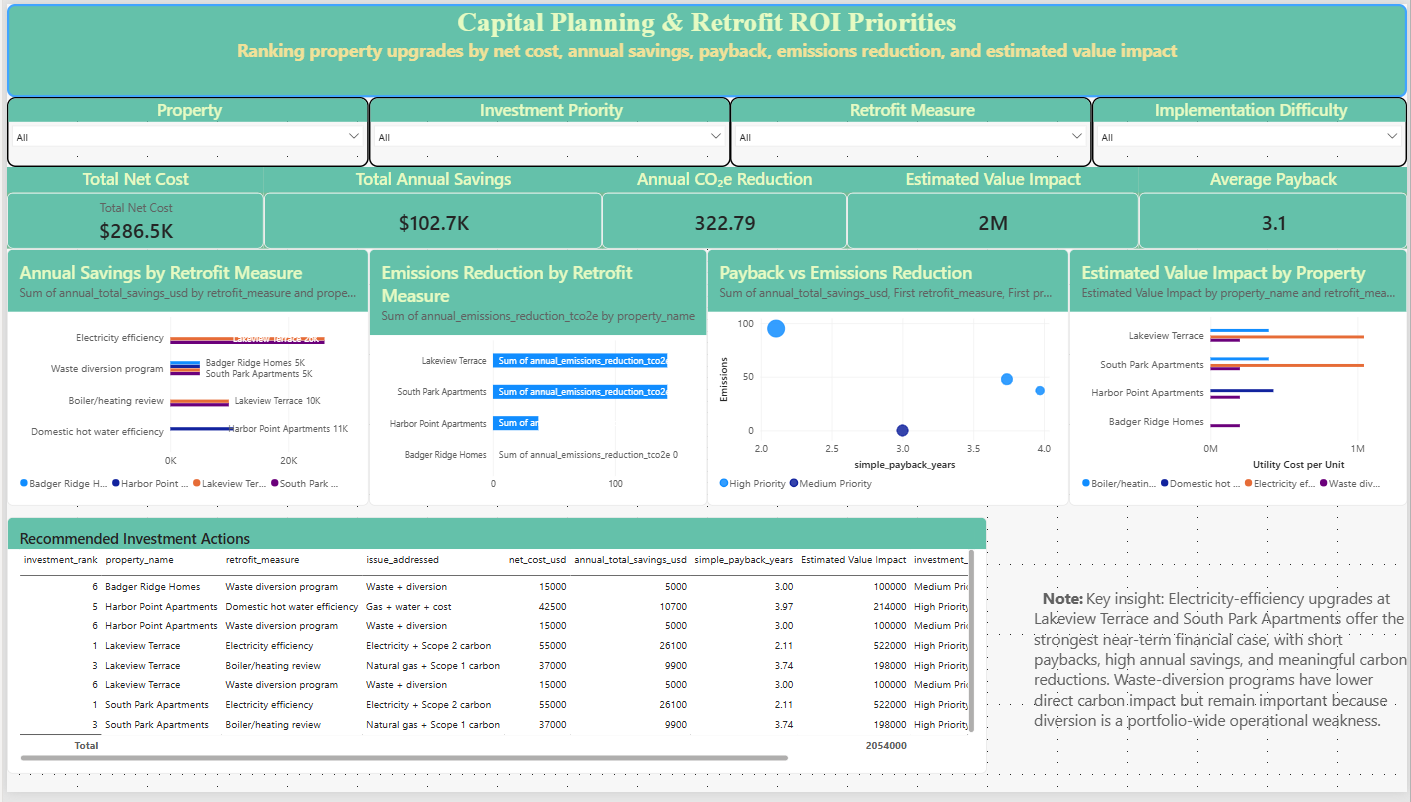

The page's visual inventory and layout, read from the dashboard file:
{"tool":"powerbi","page":{"name":"Duplicate of Utility Performance & Operating Cost Risk","canvas":[1920,1080],"ordinal":2},"visuals":[{"type":"textbox","box":[0,0,1920,128],"z":0},{"type":"slicer","title":"Property","fields":{"Values":["01_input_asset_master.property_name"]},"box":[0,128,496,96],"z":1000},{"type":"slicer","title":"Investment Priority","fields":{"Values":["17_output_investment_summary.investment_priority"]},"box":[496,128,496,96],"z":2000},{"type":"slicer","title":"Retrofit Measure","fields":{"Values":["17_output_investment_summary.retrofit_measure"]},"box":[992,128,496,96],"z":3000},{"type":"slicer","title":"Implementation Difficulty","fields":{"Values":["17_output_investment_summary.implementation_difficulty"]},"box":[1488,128,432,96],"z":4000},{"type":"cardVisual","title":"Total Net Cost","fields":{"Data":["17_output_investment_summary.Total Net Cost"]},"box":[0,224,352,112],"z":5000},{"type":"cardVisual","title":"Estimated Value Impact","fields":{"Data":["16_calc_retrofit_finance (3).Estimated Value Impact"]},"box":[1152,224,400,112],"z":6000},{"type":"cardVisual","title":"Total Annual Savings","fields":{"Data":["17_output_investment_summary.Total Annual Savings"]},"box":[352,224,464,112],"z":7000},{"type":"cardVisual","title":"Annual CO₂e Reduction","fields":{"Data":["16_calc_retrofit_finance (3).Annual CO2e Reduction"]},"box":[816,224,336,112],"z":8000},{"type":"clusteredBarChart","title":"Annual Savings by Retrofit Measure","fields":{"Category":["17_output_investment_summary.retrofit_measure"],"Series":["17_output_investment_summary.property_name"],"Y":["Sum(17_output_investment_summary.annual_total_savings_usd)"]},"box":[0,336,496,352],"z":9000},{"type":"clusteredBarChart","title":"Emissions Reduction by Retrofit Measure","fields":{"Category":["15_calc_integrated_priority (3).property_name"],"Y":["Sum(17_output_investment_summary.annual_emissions_reduction_tco2e)"]},"box":[496,336,464,352],"z":10000},{"type":"scatterChart","title":"Payback vs Emissions Reduction","fields":{"Series":["17_output_investment_summary.investment_priority"],"Size":["Sum(17_output_investment_summary.annual_total_savings_usd)"],"X":["17_output_investment_summary.simple_payback_years"],"Y":["17_output_investment_summary.annual_emissions_reduction_tco2e"]},"box":[960,336,496,352],"z":11000},{"type":"clusteredBarChart","title":"Estimated Value Impact by Property","fields":{"Category":["15_calc_integrated_priority (3).property_name"],"Series":["17_output_investment_summary.retrofit_measure"],"Y":["16_calc_retrofit_finance (3).Estimated Value Impact"]},"box":[1456,336,464,352],"z":12000},{"type":"tableEx","title":"Recommended Investment Actions","fields":{"Values":["17_output_investment_summary.investment_rank","15_calc_integrated_priority (3).property_name","17_output_investment_summary.retrofit_measure","17_output_investment_summary.issue_addressed","17_output_investment_summary.net_cost_usd","17_output_investment_summary.annual_total_savings_usd","17_output_investment_summary.simple_payback_years","16_calc_retrofit_finance (3).Estimated Value Impact","17_output_investment_summary.investment_priority","17_output_investment_summary.investment_decision"]},"box":[0,704,1344,352],"z":13000},{"type":"textbox","box":[1408,800,512,256],"z":14000},{"type":"cardVisual","title":"Average Payback","fields":{"Data":["17_output_investment_summary.Average Payback"]},"box":[1552,224,368,112],"z":15000}]}

Visuals, with their boxes in screenshot pixels (x1, y1, x2, y2), scaled from the page's 1920x1080 canvas onto the 1411x802 screenshot:
textbox: pyautogui.locateOnScreen(0, 0, 1410, 95)
"Property" slicer: pyautogui.locateOnScreen(0, 95, 365, 166)
"Investment Priority" slicer: pyautogui.locateOnScreen(365, 95, 729, 166)
"Retrofit Measure" slicer: pyautogui.locateOnScreen(729, 95, 1094, 166)
"Implementation Difficulty" slicer: pyautogui.locateOnScreen(1094, 95, 1410, 166)
"Total Net Cost" cardVisual: pyautogui.locateOnScreen(0, 166, 259, 250)
"Estimated Value Impact" cardVisual: pyautogui.locateOnScreen(847, 166, 1141, 250)
"Total Annual Savings" cardVisual: pyautogui.locateOnScreen(259, 166, 600, 250)
"Annual CO₂e Reduction" cardVisual: pyautogui.locateOnScreen(600, 166, 847, 250)
"Annual Savings by Retrofit Measure" clusteredBarChart: pyautogui.locateOnScreen(0, 250, 365, 511)
"Emissions Reduction by Retrofit Measure" clusteredBarChart: pyautogui.locateOnScreen(365, 250, 706, 511)
"Payback vs Emissions Reduction" scatterChart: pyautogui.locateOnScreen(706, 250, 1070, 511)
"Estimated Value Impact by Property" clusteredBarChart: pyautogui.locateOnScreen(1070, 250, 1410, 511)
"Recommended Investment Actions" tableEx: pyautogui.locateOnScreen(0, 523, 988, 784)
textbox: pyautogui.locateOnScreen(1035, 594, 1410, 784)
"Average Payback" cardVisual: pyautogui.locateOnScreen(1141, 166, 1410, 250)
